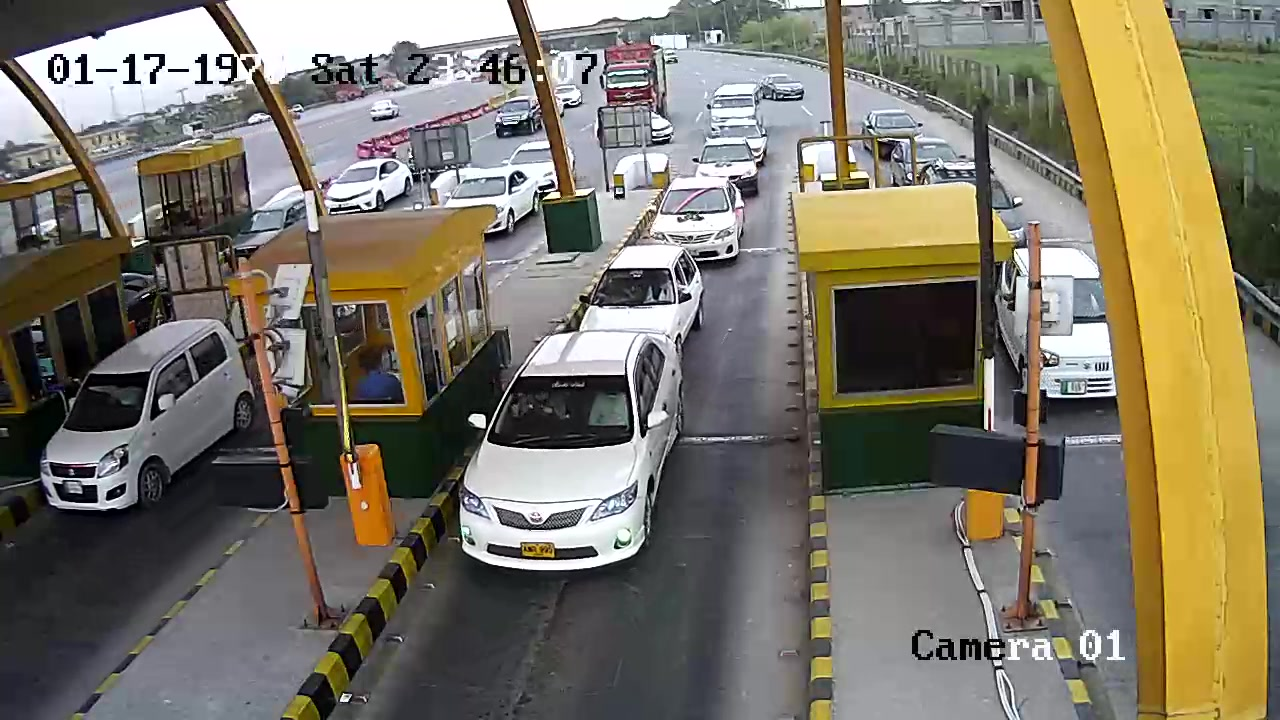F1: (436, 327, 728, 581)
